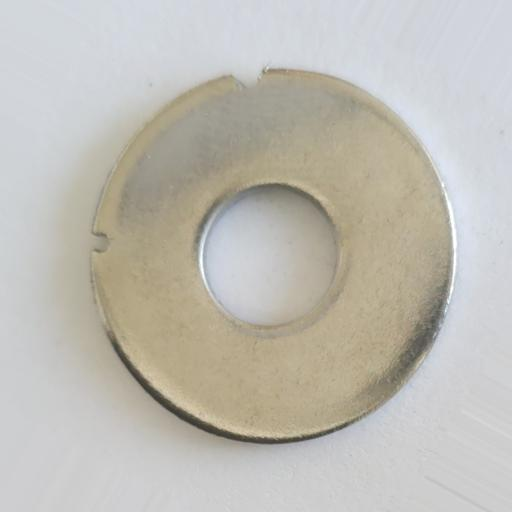burr: (229, 65, 269, 92), (89, 229, 111, 255)
